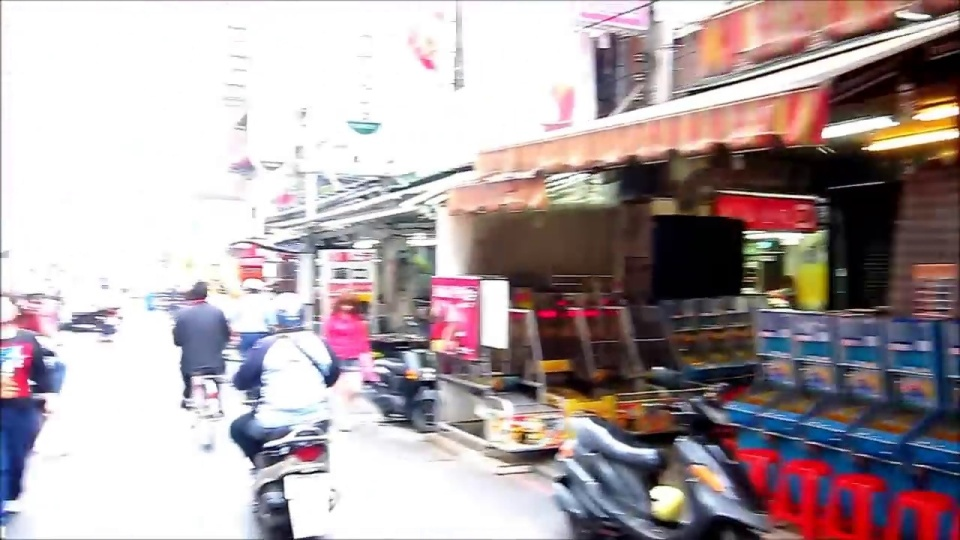person_head: (267, 291, 306, 333), (333, 294, 362, 318), (0, 297, 21, 322), (189, 281, 210, 303), (239, 278, 266, 294)
person_vbox: (228, 285, 348, 462), (0, 295, 44, 523), (165, 279, 234, 410), (323, 291, 376, 432), (226, 275, 279, 360)
